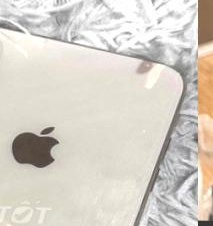scratch: (135, 125, 150, 137)
